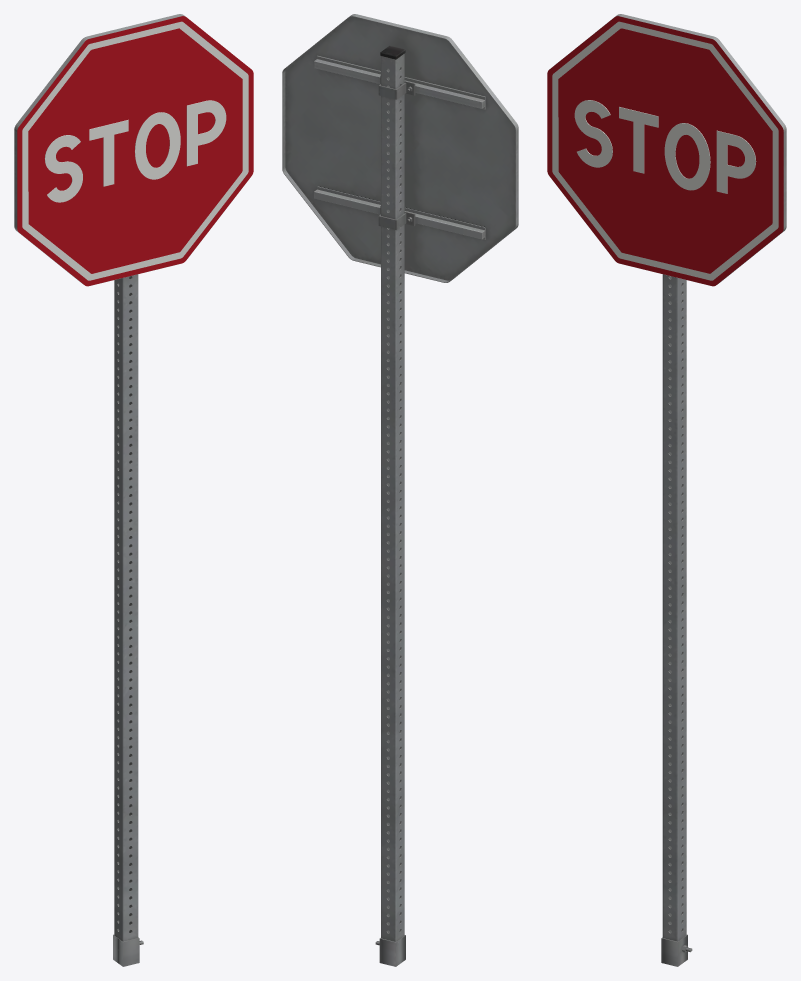
File: stop-sign.glb
3 views of the same model, side by side, from view 1: azimuth 30°, elevation 25°; view 2: azimuth 150°, elevation 25°; view 3: azimuth 330°, elevation 25° (orthographic).
Visible parts, largest first — view 1: stop-sign_sign_face, stop-sign_body, stop-sign_legend; view 2: stop-sign_body; view 3: stop-sign_sign_face, stop-sign_body, stop-sign_legend.
Boxes of the visible parts, left/top/right/bottom form: stop-sign_sign_face: left=17, top=16, right=253, bottom=286; stop-sign_body: left=14, top=14, right=249, bottom=966; stop-sign_legend: left=22, top=21, right=248, bottom=280; stop-sign_body: left=282, top=14, right=518, bottom=966; stop-sign_sign_face: left=547, top=16, right=783, bottom=286; stop-sign_body: left=549, top=14, right=786, bottom=966; stop-sign_legend: left=552, top=21, right=778, bottom=280.
Bounding box in the file's own units: 0.7502 × 2.85 × 0.0809.
Materials: 3 (1 with a texture image).
